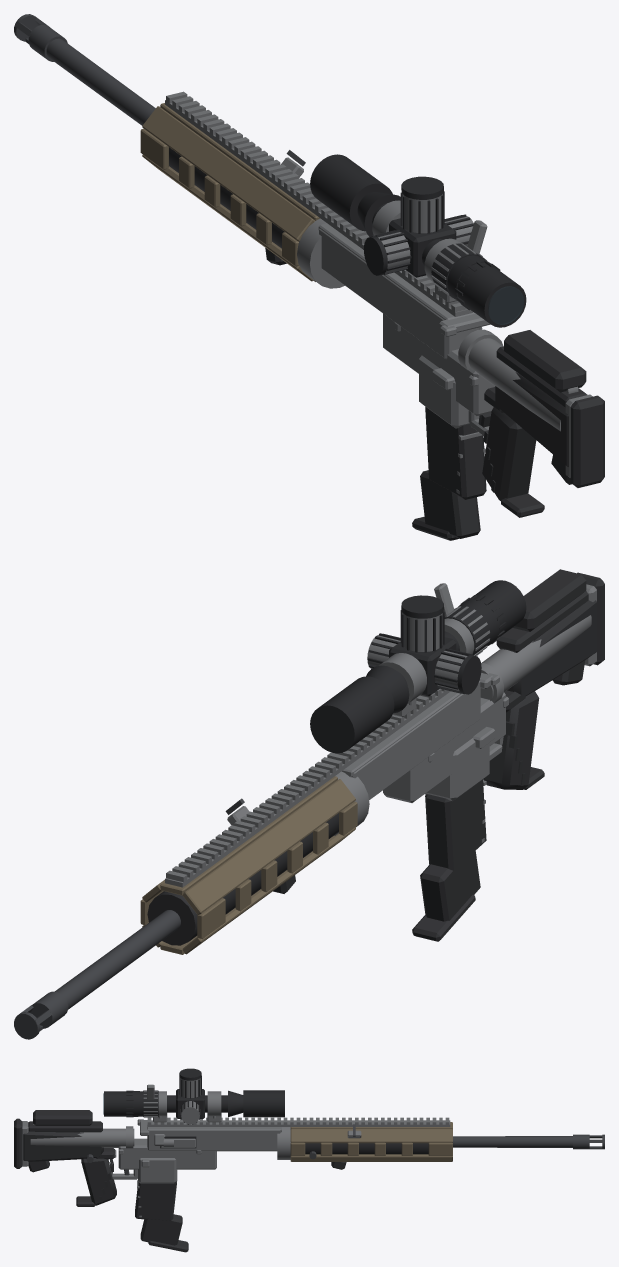
The model's file is marksman.glb.
3 renders of one model, top to bottom at view 1: azimuth 30°, elevation 25°; view 2: azimuth 150°, elevation 25°; view 3: azimuth 270°, elevation 25°, orthographic. The views are drawn at different scales.
Parts seen in each view (by area): view 1: MARKSMAN_Tungsten, MARKSMAN_Polymer, MARKSMAN_Optic, MARKSMAN_FDE, MARKSMAN_Steel, MARKSMAN_Glass; view 2: MARKSMAN_Tungsten, MARKSMAN_Polymer, MARKSMAN_Optic, MARKSMAN_FDE, MARKSMAN_Steel; view 3: MARKSMAN_Tungsten, MARKSMAN_Polymer, MARKSMAN_FDE, MARKSMAN_Optic, MARKSMAN_Steel.
Boxes of the visible parts, <box> form: MARKSMAN_Tungsten: <box>165,91,592,493</box>; MARKSMAN_Polymer: <box>169,147,604,540</box>; MARKSMAN_Optic: <box>310,154,526,327</box>; MARKSMAN_FDE: <box>140,103,320,281</box>; MARKSMAN_Steel: <box>14,14,482,425</box>; MARKSMAN_Glass: <box>488,286,523,324</box>; MARKSMAN_Tungsten: <box>165,583,596,887</box>; MARKSMAN_Polymer: <box>147,569,604,945</box>; MARKSMAN_Optic: <box>310,580,526,753</box>; MARKSMAN_FDE: <box>140,776,357,954</box>; MARKSMAN_Steel: <box>14,798,244,1039</box>; MARKSMAN_Tungsten: <box>21,1078,450,1217</box>; MARKSMAN_Polymer: <box>14,1110,428,1252</box>; MARKSMAN_FDE: <box>290,1122,452,1161</box>; MARKSMAN_Optic: <box>104,1068,284,1124</box>; MARKSMAN_Steel: <box>86,1124,604,1175</box>.
Size of the model in its own units: 0.111 by 0.3757 by 1.14.
